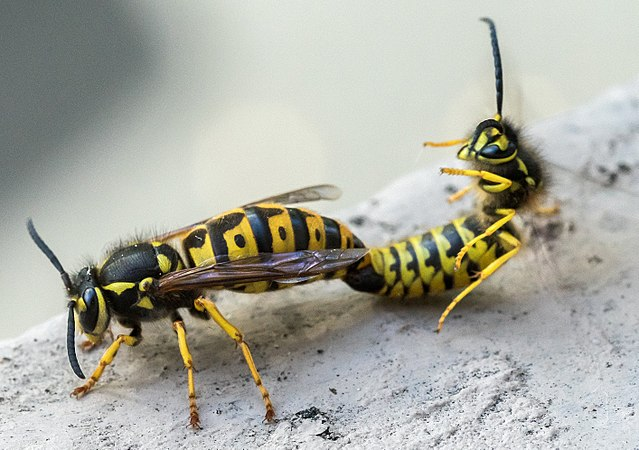chax: (20, 168, 364, 437), (357, 97, 560, 347)
